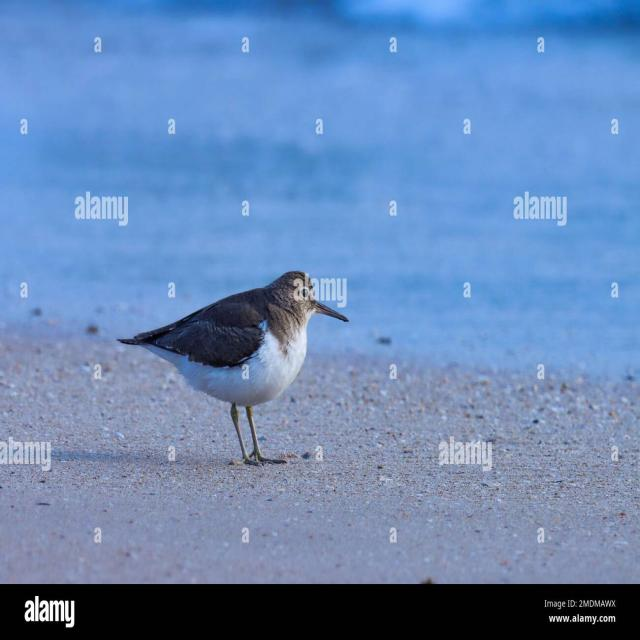Sandpiper: (125, 260, 351, 466)
